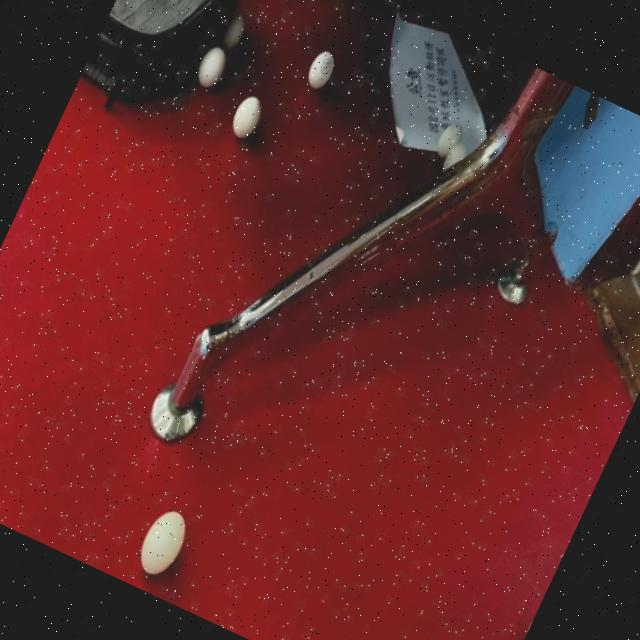ping-pong-ball: (124, 499, 198, 590), (220, 84, 274, 150), (185, 38, 237, 98), (296, 42, 344, 100), (426, 112, 469, 168)
